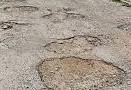pothole: (35, 55, 131, 90), (41, 33, 102, 55), (43, 8, 86, 22), (2, 4, 40, 16)
